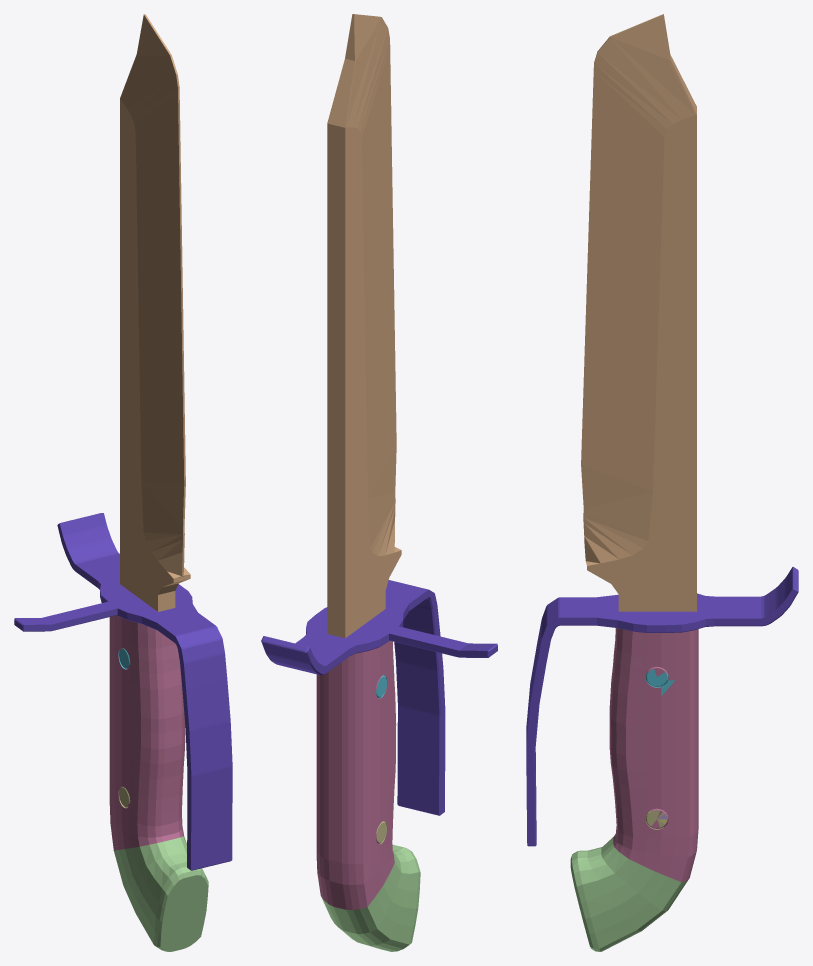
The picture shows the model from 3 angles, left to right: view 1: azimuth 30°, elevation 25°; view 2: azimuth 150°, elevation 25°; view 3: azimuth 270°, elevation 25°; orthographic projection. The views are drawn at different scales.
Visible parts, largest first — view 1: world; view 2: world; view 3: world.
Boxes of the visible parts, x1,y1,x2,y2 form: world: (14,14,232,951); world: (261,14,497,951); world: (526,14,798,951).
Bounding box in the file's own units: 0.1896 × 1 × 0.2646.
